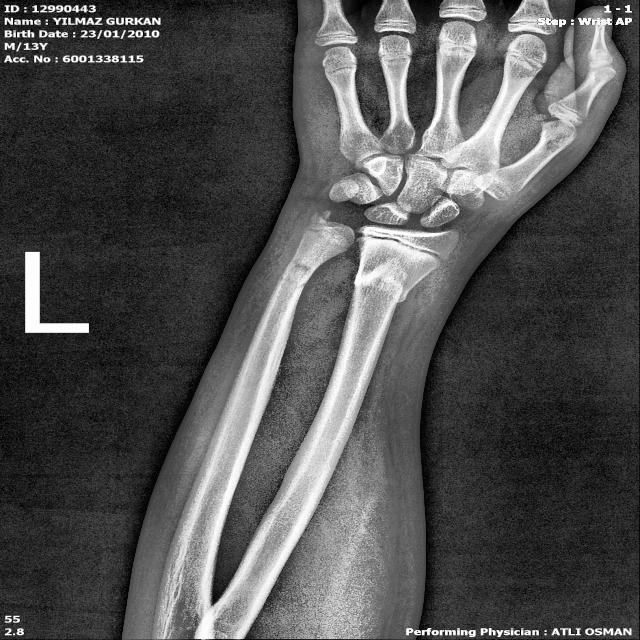Fracture: (341, 262, 417, 314), (274, 250, 321, 297)
